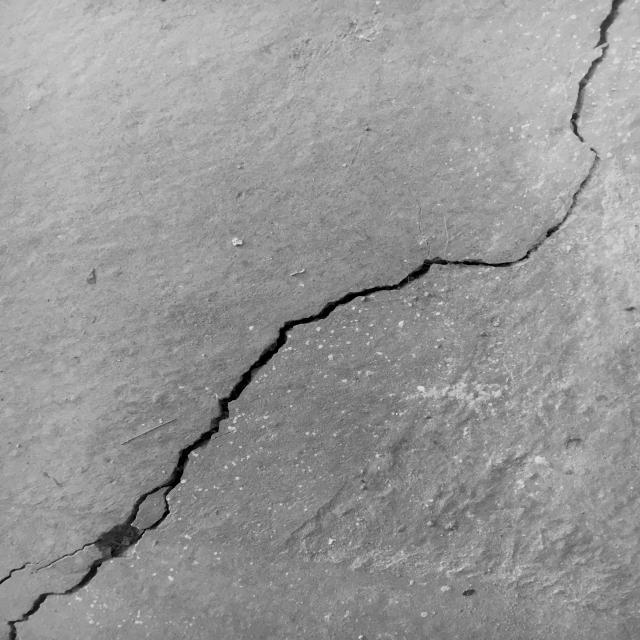SurfaceCrack: (1, 2, 638, 640)
